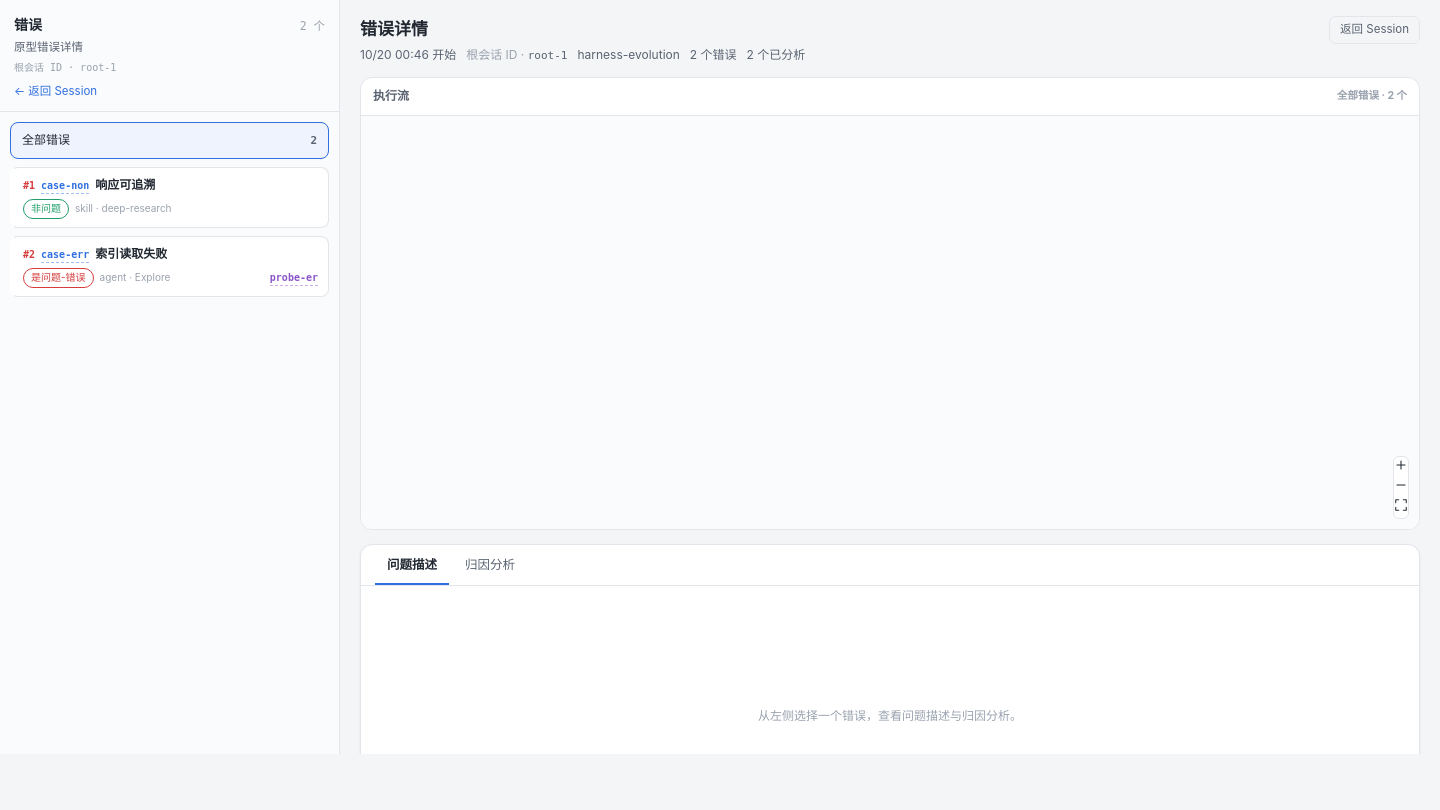
error detail page › shows the prototype shell and writes case/tab when selecting
Expected: the heading "错误详情" is shown, [360, 19, 428, 39]
Expected: the element with class "error-sidebar" shows "原型错误详情", [14, 40, 83, 54]
Click the button named "选择问题 case-err：索引读取失败".
click(170, 266)  # box [13, 237, 328, 296]
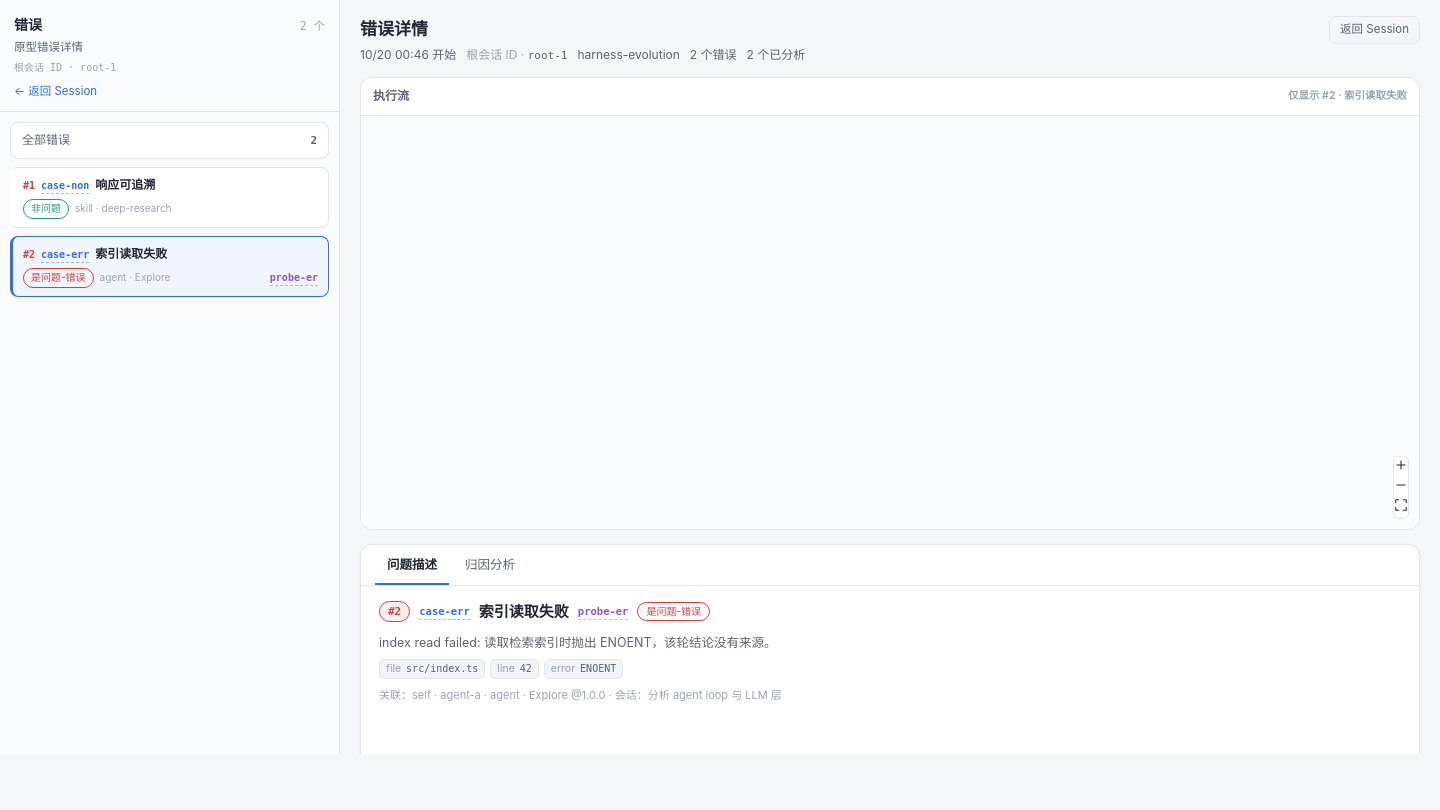
Expected: the text "index read failed: 读取检索索引时抛出 ENOENT，该轮结论没有来源。" is shown, [379, 635, 777, 650]
Expected: the 2nd link "case-err" is shown, [419, 603, 470, 620]
Expected: the 2nd link with class "report-id" reads "probe-er", [578, 603, 628, 620]
